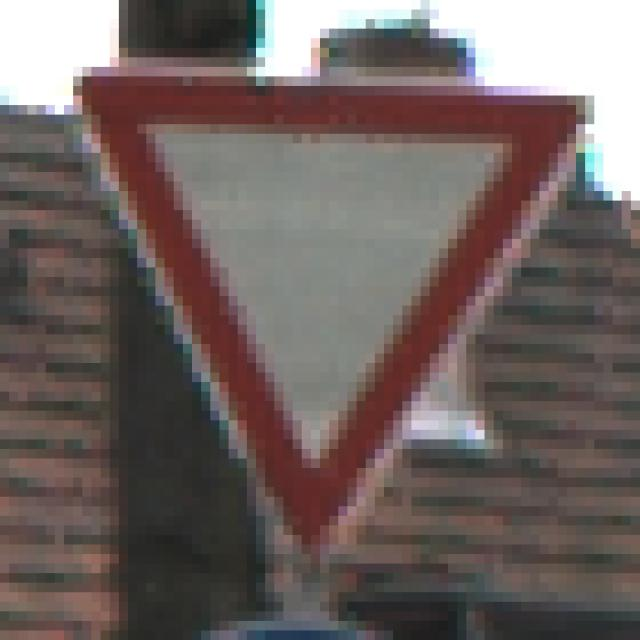Give Way: (56, 58, 586, 584)
